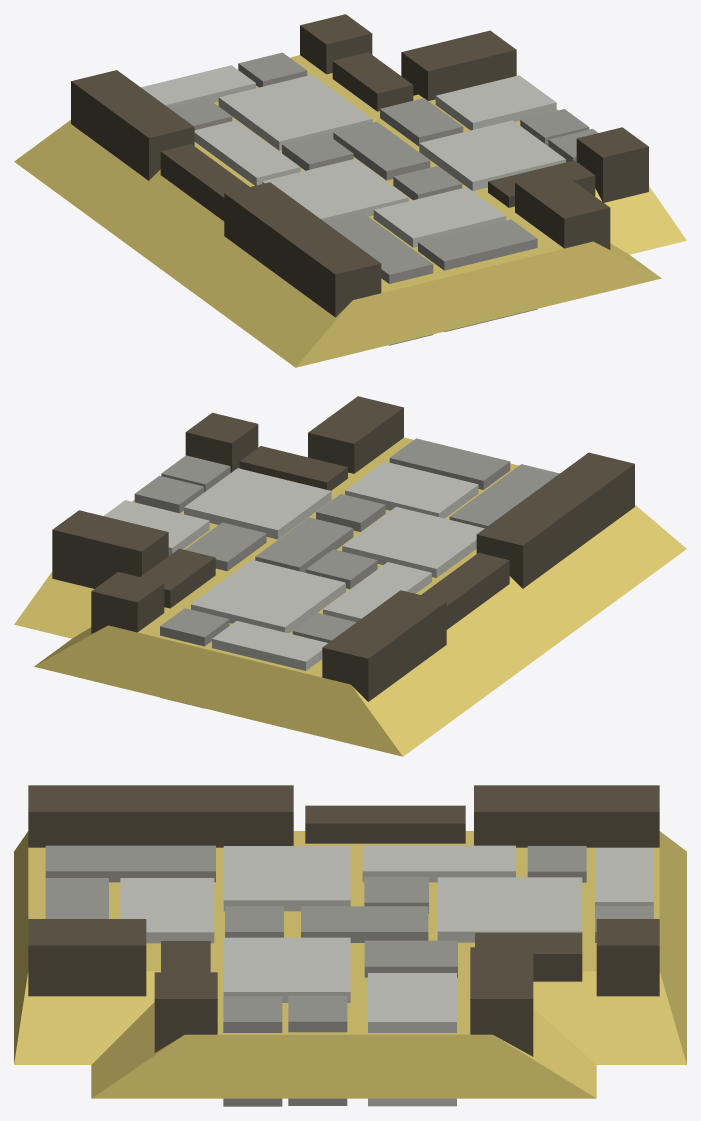
File: stoneroad_tbone.fbx
3 views of the same model, one above another, from view 1: azimuth 30°, elevation 25°; view 2: azimuth 150°, elevation 25°; view 3: azimuth 270°, elevation 25° (orthographic). The views are drawn at different scales.
Parts seen in each view (by area): view 1: polySurface268; view 2: polySurface268; view 3: polySurface268.
Part boxes in pixels (x1,y1,x2,y2): polySurface268: [14, 14, 686, 367]; polySurface268: [14, 396, 686, 756]; polySurface268: [14, 785, 686, 1106].
Size of the model in its own units: 92.56 by 19.07 by 107.
Materials: 1 (1 with a texture image).
